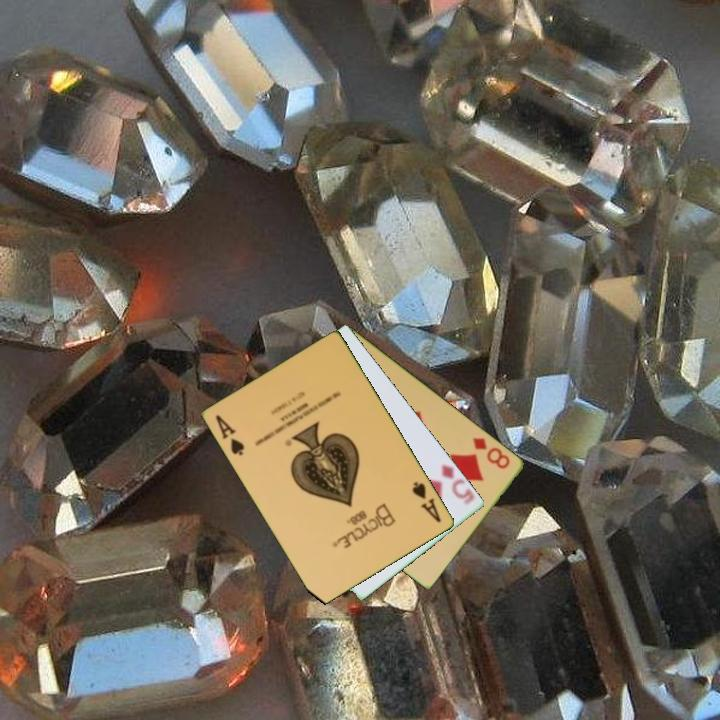5d: (438, 460, 478, 508)
8d: (469, 434, 513, 472)
As: (409, 478, 445, 525), (212, 411, 248, 458)
